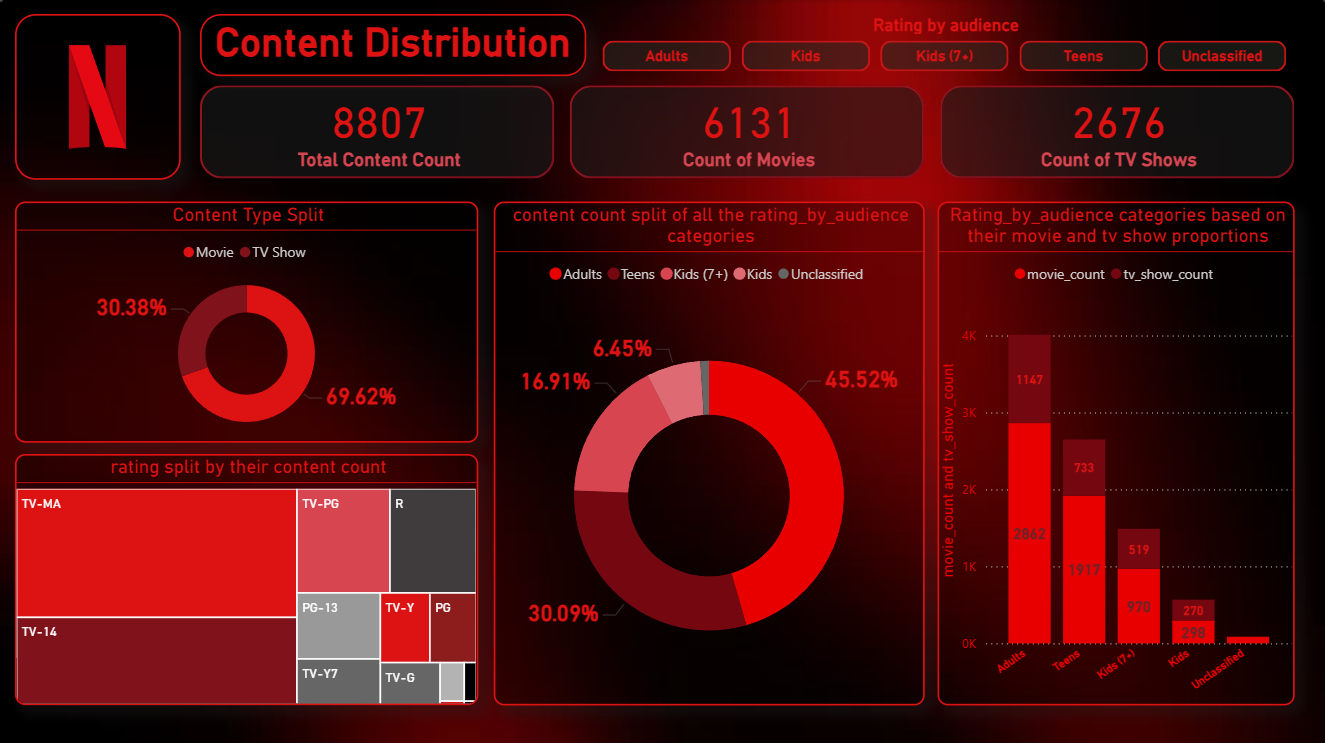

The dashboard page shown, as its layout file describes it:
{"tool":"powerbi","page":{"name":"Content Distribution","canvas":[1280,720],"ordinal":1},"visuals":[{"type":"image","box":[14.3,14.3,160,160],"z":0},{"type":"cardVisual","fields":{"Data":["Sum(1_content_distribution(1).content_type_count)","1_content_distribution(1).content_count_movies","1_content_distribution(1).content_count_TV_show"]},"box":[193,83.2,1056.8,90.5],"z":1000},{"type":"donutChart","title":"Content Type Split","fields":{"Category":["1_content_percentage(2).type"],"Y":["Sum(1_content_percentage(2).type_percentage_of_total_content)"]},"box":[14.5,195.4,447.6,232.8],"z":2000},{"type":"treemap","title":"rating split by their content count","fields":{"Group":["6_ratings_wise_distribution(13).rating"],"Values":["Sum(6_ratings_wise_distribution(13).content_count)"]},"box":[14.5,439.1,447.6,242.5],"z":3000},{"type":"shape","box":[193,14.5,372.8,60.3],"z":4000},{"type":"textbox","box":[193,14.5,372.8,60.3],"z":5000},{"type":"advancedSlicerVisual","title":"Rating by audience","fields":{"Values":["6_rating_by_audience_category_distribution(14).rating_by_audience"]},"box":[576.7,14.5,673.2,60.3],"z":6000},{"type":"columnChart","title":"Rating_by_audience categories based on their movie and tv show proportions","fields":{"Category":["6_ratings_by_audience_content_type_wise_distribution(15).rating_by_audience"],"Y":["Sum(6_ratings_by_audience_content_type_wise_distribution(15).movie_count)","Sum(6_ratings_by_audience_content_type_wise_distribution(15).tv_show_count)"]},"box":[904.8,195.4,345,486.2],"z":7000},{"type":"donutChart","title":"content count split of all the rating_by_audience categories","fields":{"Category":["6_rating_by_audience_category_distribution(14).rating_by_audience"],"Y":["Sum(6_rating_by_audience_category_distribution(14).content_count)"]},"box":[476.5,195.4,416.2,486.2],"z":8000}]}

Visuals, with their boxes in screenshot pixels (x1, y1, x2, y2), scaled from the page's 1280x720 canvas onto the 1325x743 screenshot:
image: detection(15, 15, 180, 180)
cardVisual - Sum(1_content_distribution(1).content_type_count) x 1_content_distribution(1).content_count_movies: detection(200, 86, 1294, 179)
"Content Type Split" donutChart: detection(15, 202, 478, 442)
"rating split by their content count" treemap: detection(15, 453, 478, 703)
shape: detection(200, 15, 586, 77)
textbox: detection(200, 15, 586, 77)
"Rating by audience" advancedSlicerVisual: detection(597, 15, 1294, 77)
"Rating_by_audience categories based on their movie and tv show proportions" columnChart: detection(937, 202, 1294, 703)
"content count split of all the rating_by_audience categories" donutChart: detection(493, 202, 924, 703)
